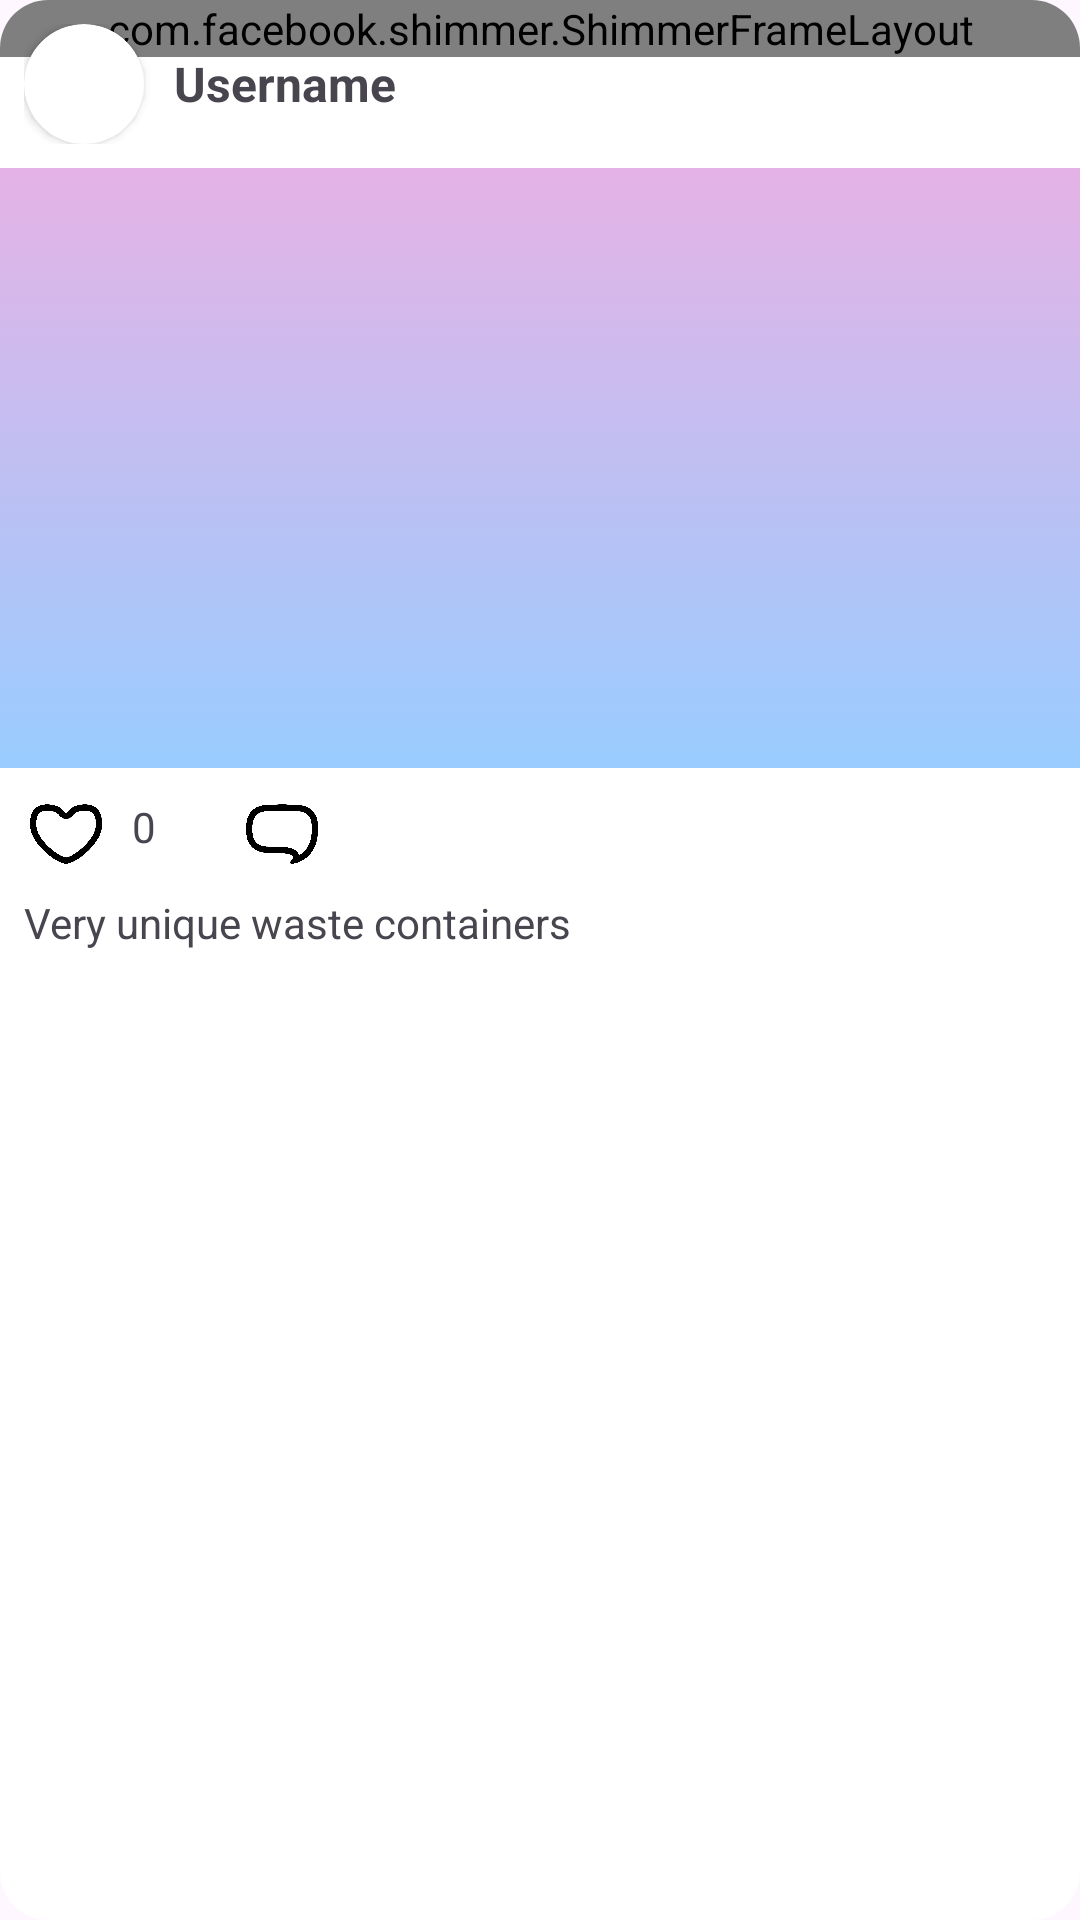

Where to tap for icons on this 1080w x 1920h app screen, as (x=x, y=y):
photoquest comment: (x=282, y=834)
photoquest heart: (x=66, y=834)
